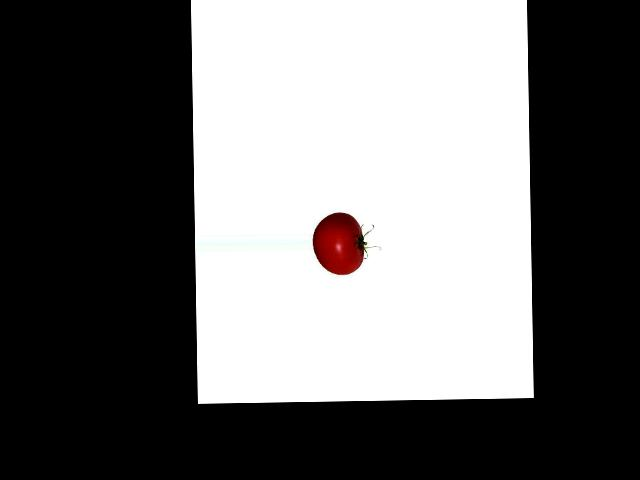tomato: (312, 213, 364, 275)
